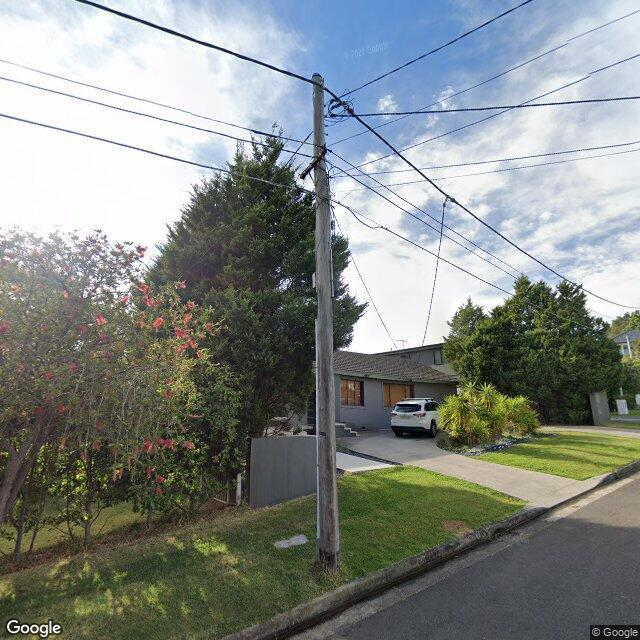crossarm: (299, 145, 328, 180)
timber-pole: (311, 72, 338, 570)
